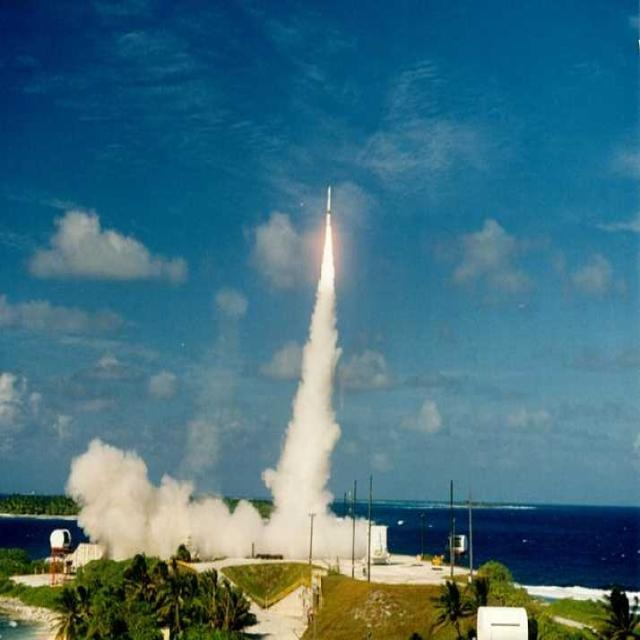missile: (320, 182, 339, 223)
